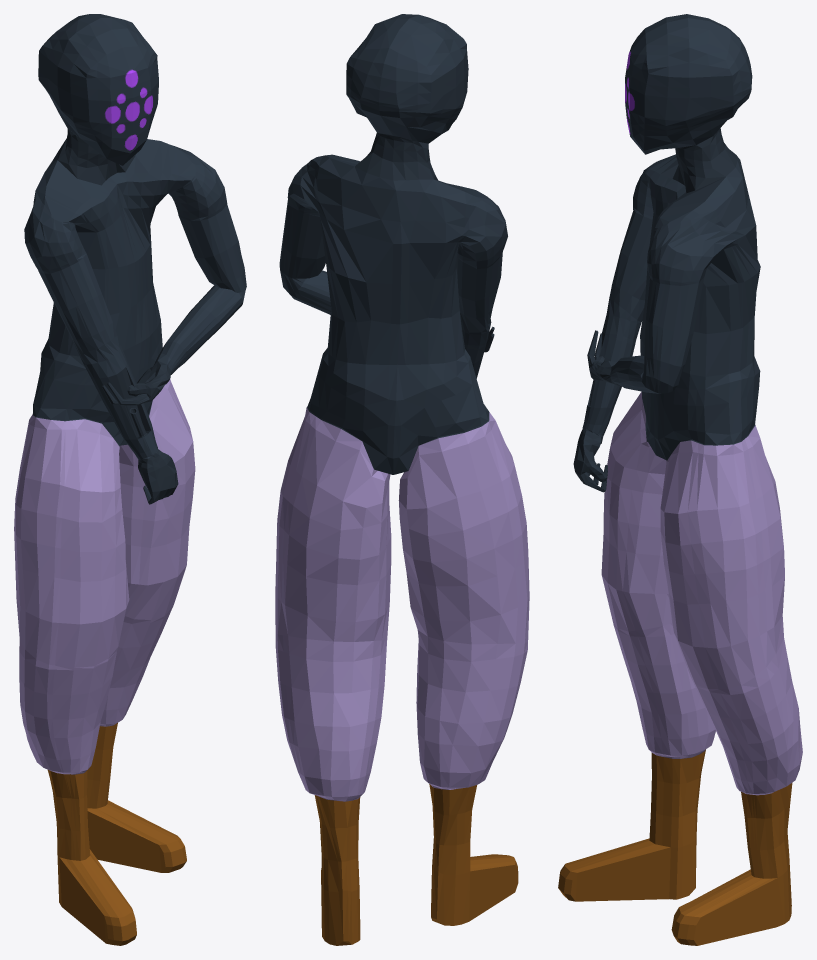
Rendered from Oracle_Reload_000012.obj.
3 renders of one model, left to right at view 1: azimuth 30°, elevation 25°; view 2: azimuth 150°, elevation 25°; view 3: azimuth 270°, elevation 25°, orthographic. The views are drawn at different scales.
Visible parts, largest first — view 1: Cube; view 2: Cube; view 3: Cube.
Boxes of the visible parts, x1,y1,x2,y2 form: Cube: (14,14,246,945); Cube: (275,14,529,945); Cube: (558,14,802,945).
Size of the model in its own units: 1.07 by 3.94 by 0.9762.
